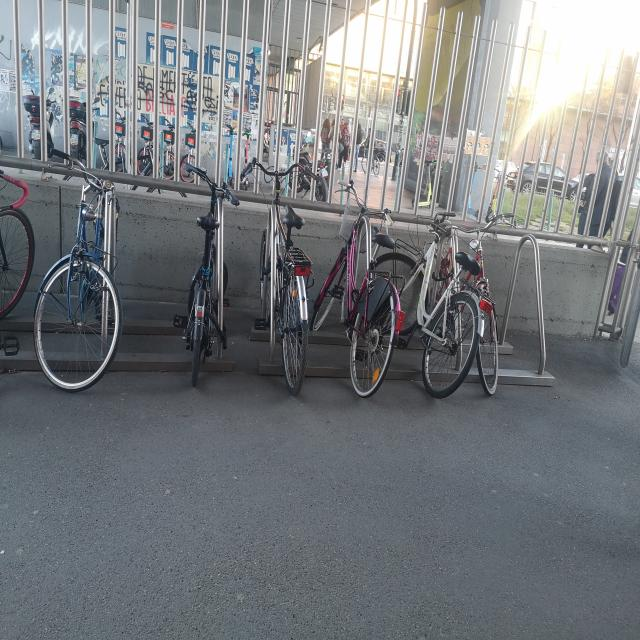Bicycle: (29, 160, 144, 414), (309, 182, 406, 400), (178, 147, 255, 387), (456, 198, 533, 402), (411, 200, 482, 421), (250, 169, 316, 397), (0, 157, 45, 299)
